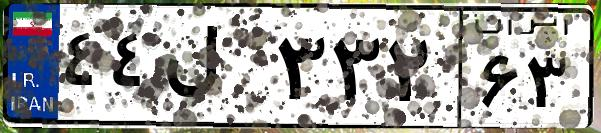2: (385, 28, 445, 110)
3: (270, 28, 330, 110), (330, 28, 385, 110), (525, 38, 570, 115)
4: (57, 26, 110, 100), (110, 28, 158, 98)
6: (475, 38, 525, 113)
ل: (158, 20, 270, 120)
